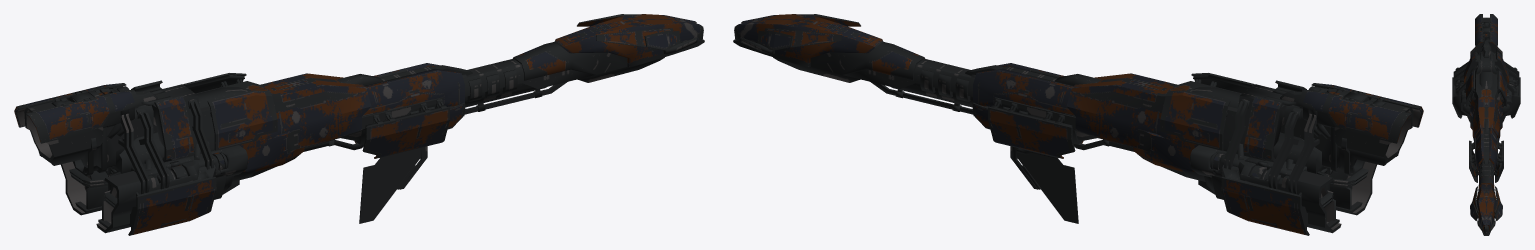
File: stabber.glb
The picture shows the model from 3 angles, left to right: view 1: azimuth 30°, elevation 25°; view 2: azimuth 150°, elevation 25°; view 3: azimuth 270°, elevation 25°; orthographic projection. The views are drawn at different scales.
Parts seen in each view (by area): view 1: Stabber; view 2: Stabber; view 3: Stabber.
Part boxes in pixels (<box>): Stabber: <box>14,14,704,235</box>; Stabber: <box>733,14,1423,235</box>; Stabber: <box>1452,14,1520,235</box>.
Size of the model in its own units: 347 by 95.4 by 57.88.
Materials: 1 (1 with a texture image).
